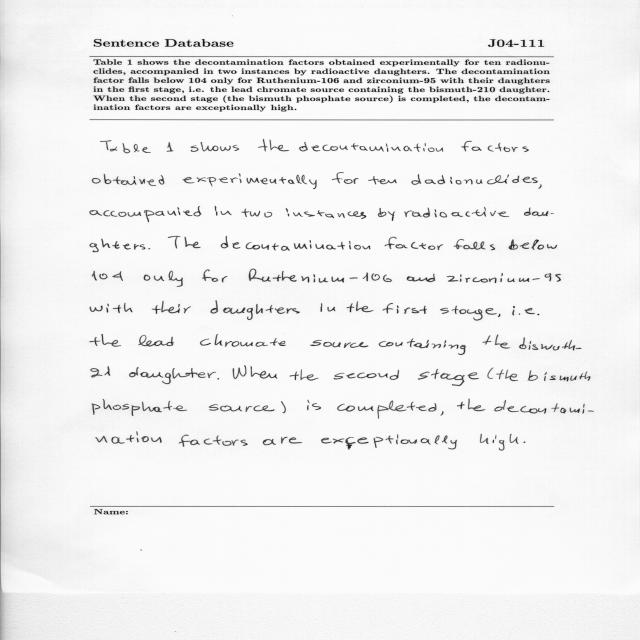word: (221, 236, 370, 251), (321, 434, 457, 450), (183, 173, 317, 189), (249, 269, 392, 283), (337, 401, 436, 419), (90, 206, 201, 222), (210, 301, 300, 320), (92, 399, 188, 416), (379, 338, 466, 355), (129, 367, 216, 384), (299, 142, 443, 152), (412, 174, 538, 185), (494, 400, 594, 413), (404, 207, 509, 218), (447, 273, 561, 283), (200, 334, 286, 347), (418, 369, 479, 386), (179, 434, 248, 447), (286, 208, 367, 219), (93, 174, 165, 186), (440, 306, 497, 321), (520, 338, 582, 351), (96, 432, 162, 444), (385, 237, 443, 250), (461, 141, 529, 152), (90, 239, 146, 252), (528, 371, 590, 382), (100, 141, 151, 154), (334, 370, 399, 380), (480, 434, 518, 451), (144, 271, 183, 287), (233, 366, 278, 379), (509, 239, 557, 250), (209, 404, 275, 412), (152, 301, 191, 314), (191, 142, 240, 152), (383, 303, 427, 314), (310, 340, 368, 348), (454, 239, 495, 250), (90, 303, 133, 313), (168, 236, 201, 249), (138, 335, 175, 346), (258, 139, 289, 152), (90, 334, 121, 347), (483, 335, 510, 349), (290, 369, 319, 381), (202, 270, 228, 283), (457, 399, 485, 411), (332, 172, 359, 184), (263, 437, 302, 445), (92, 271, 123, 281), (347, 301, 374, 312), (242, 209, 272, 218), (513, 306, 540, 315), (496, 370, 518, 381), (524, 208, 554, 216), (368, 176, 397, 184), (91, 366, 110, 378), (407, 274, 435, 282), (378, 208, 395, 221), (215, 206, 232, 216), (307, 400, 321, 410), (321, 303, 336, 312), (167, 142, 174, 152), (488, 368, 494, 379), (281, 401, 286, 413), (538, 184, 542, 189), (441, 411, 444, 415), (498, 314, 500, 317), (218, 378, 220, 380), (524, 441, 526, 443), (148, 248, 150, 249)
